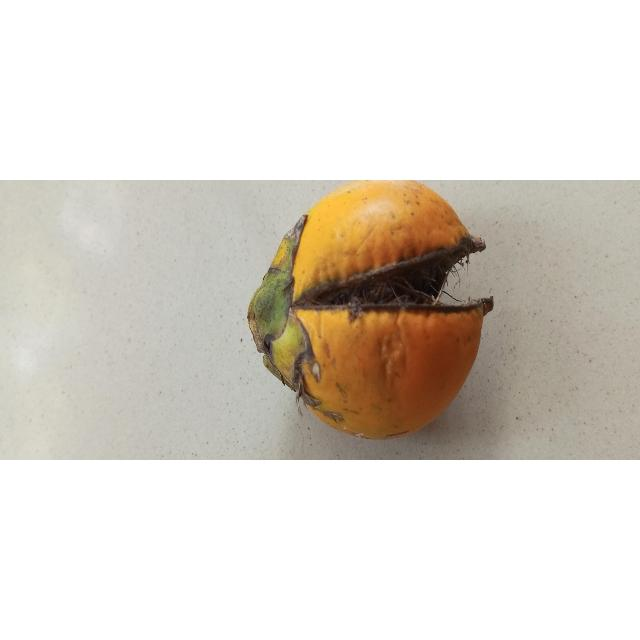damaged: (247, 180, 494, 440)
